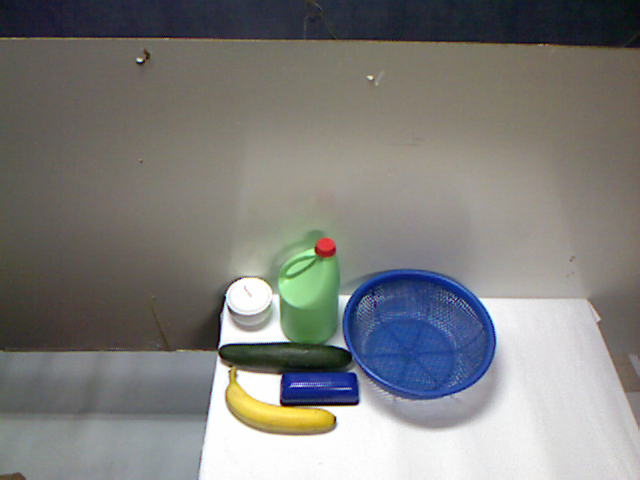borrador: (315, 305, 359, 381)
cloroplano: (209, 237, 287, 359)
colador: (342, 273, 506, 415)
linterna: (273, 308, 324, 373)
pepino: (256, 367, 409, 444)
pescado: (190, 333, 272, 428)
